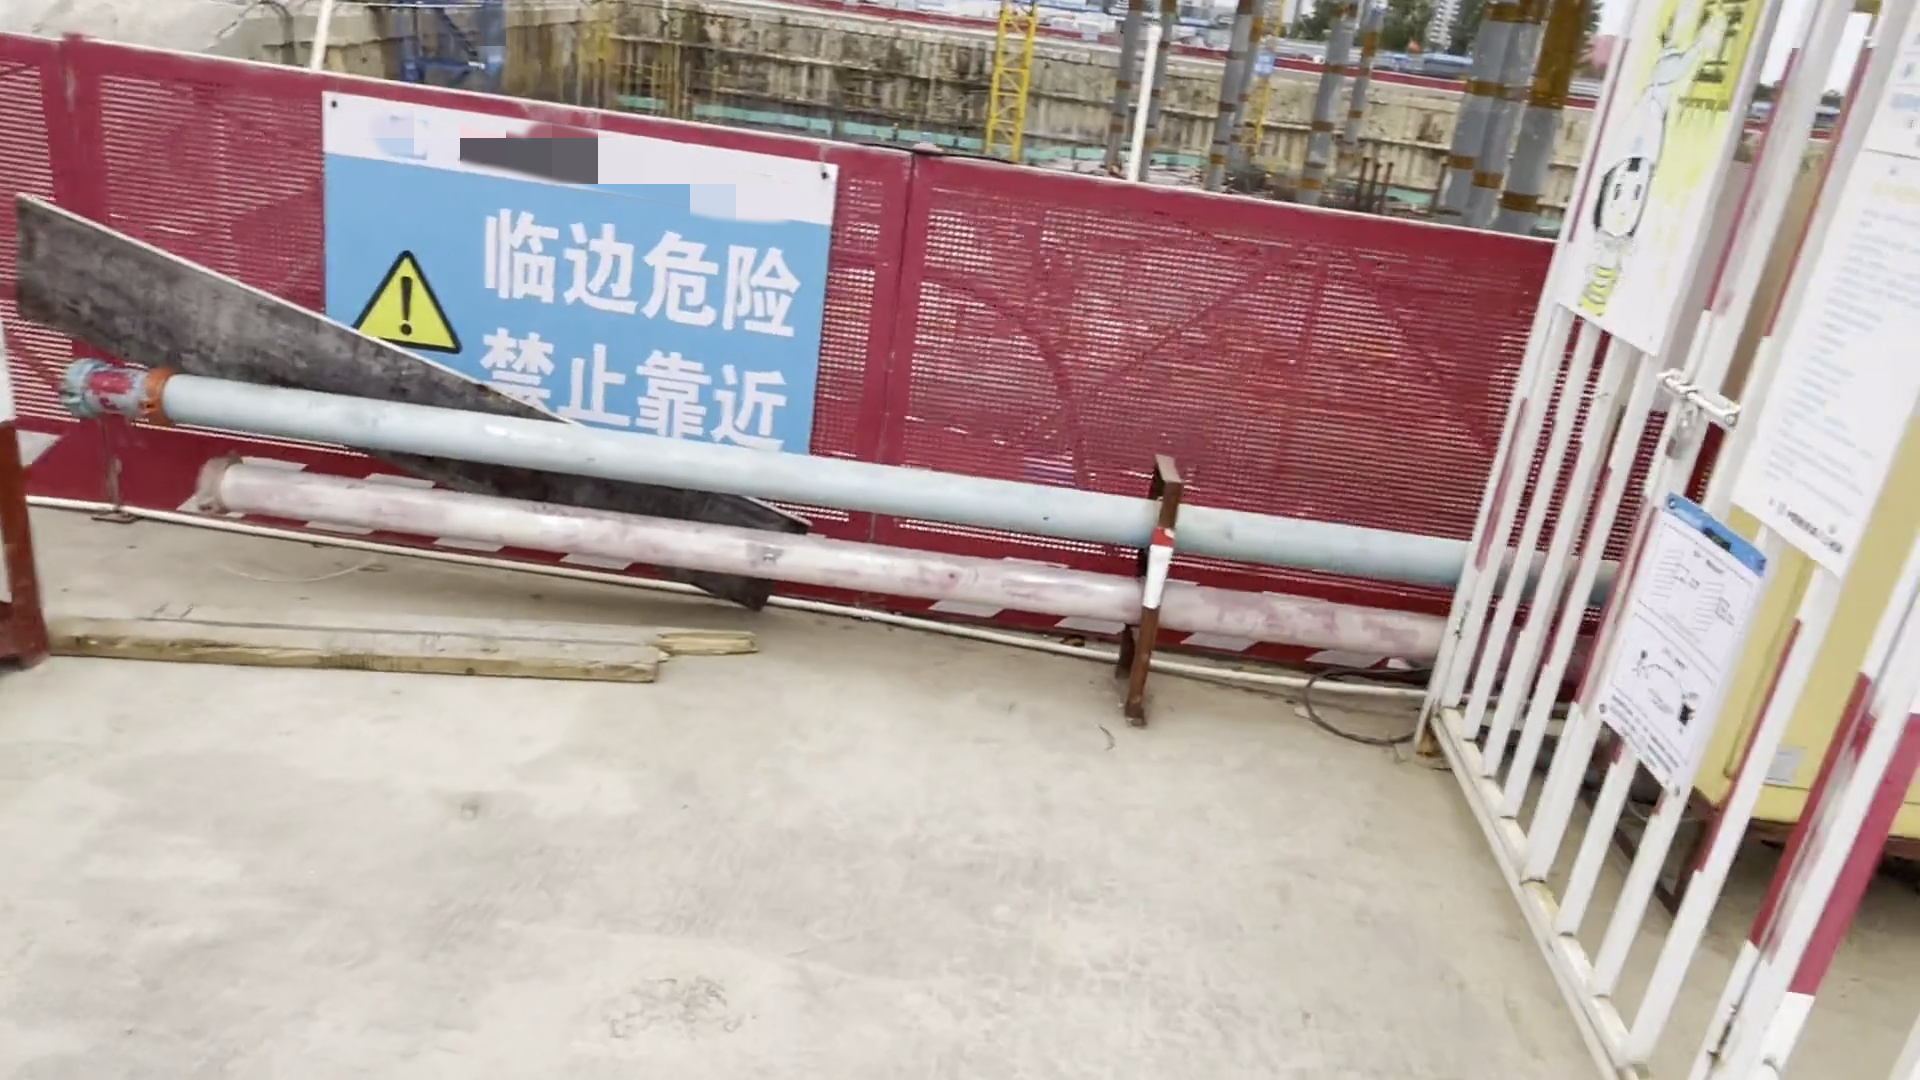fence: (82, 26, 866, 603), (913, 156, 1542, 702)
slogan: (349, 150, 796, 483)
